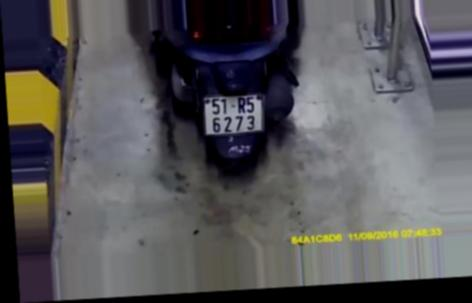License_Plate: (197, 89, 270, 142)
